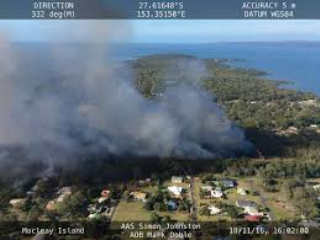smoke: (83, 62, 261, 167)
